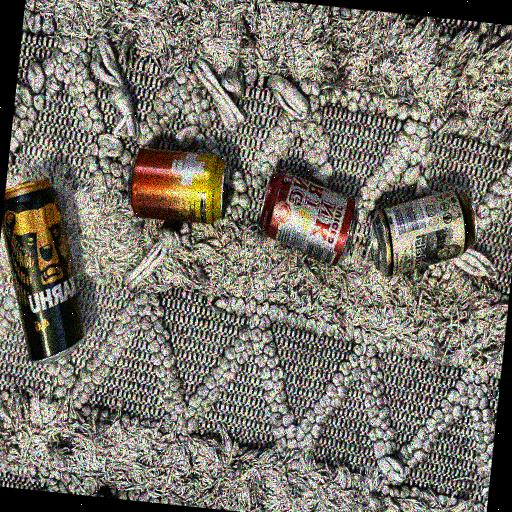karhu: (0, 170, 106, 369)
koff: (250, 166, 361, 268)
sandels: (352, 174, 485, 299)
